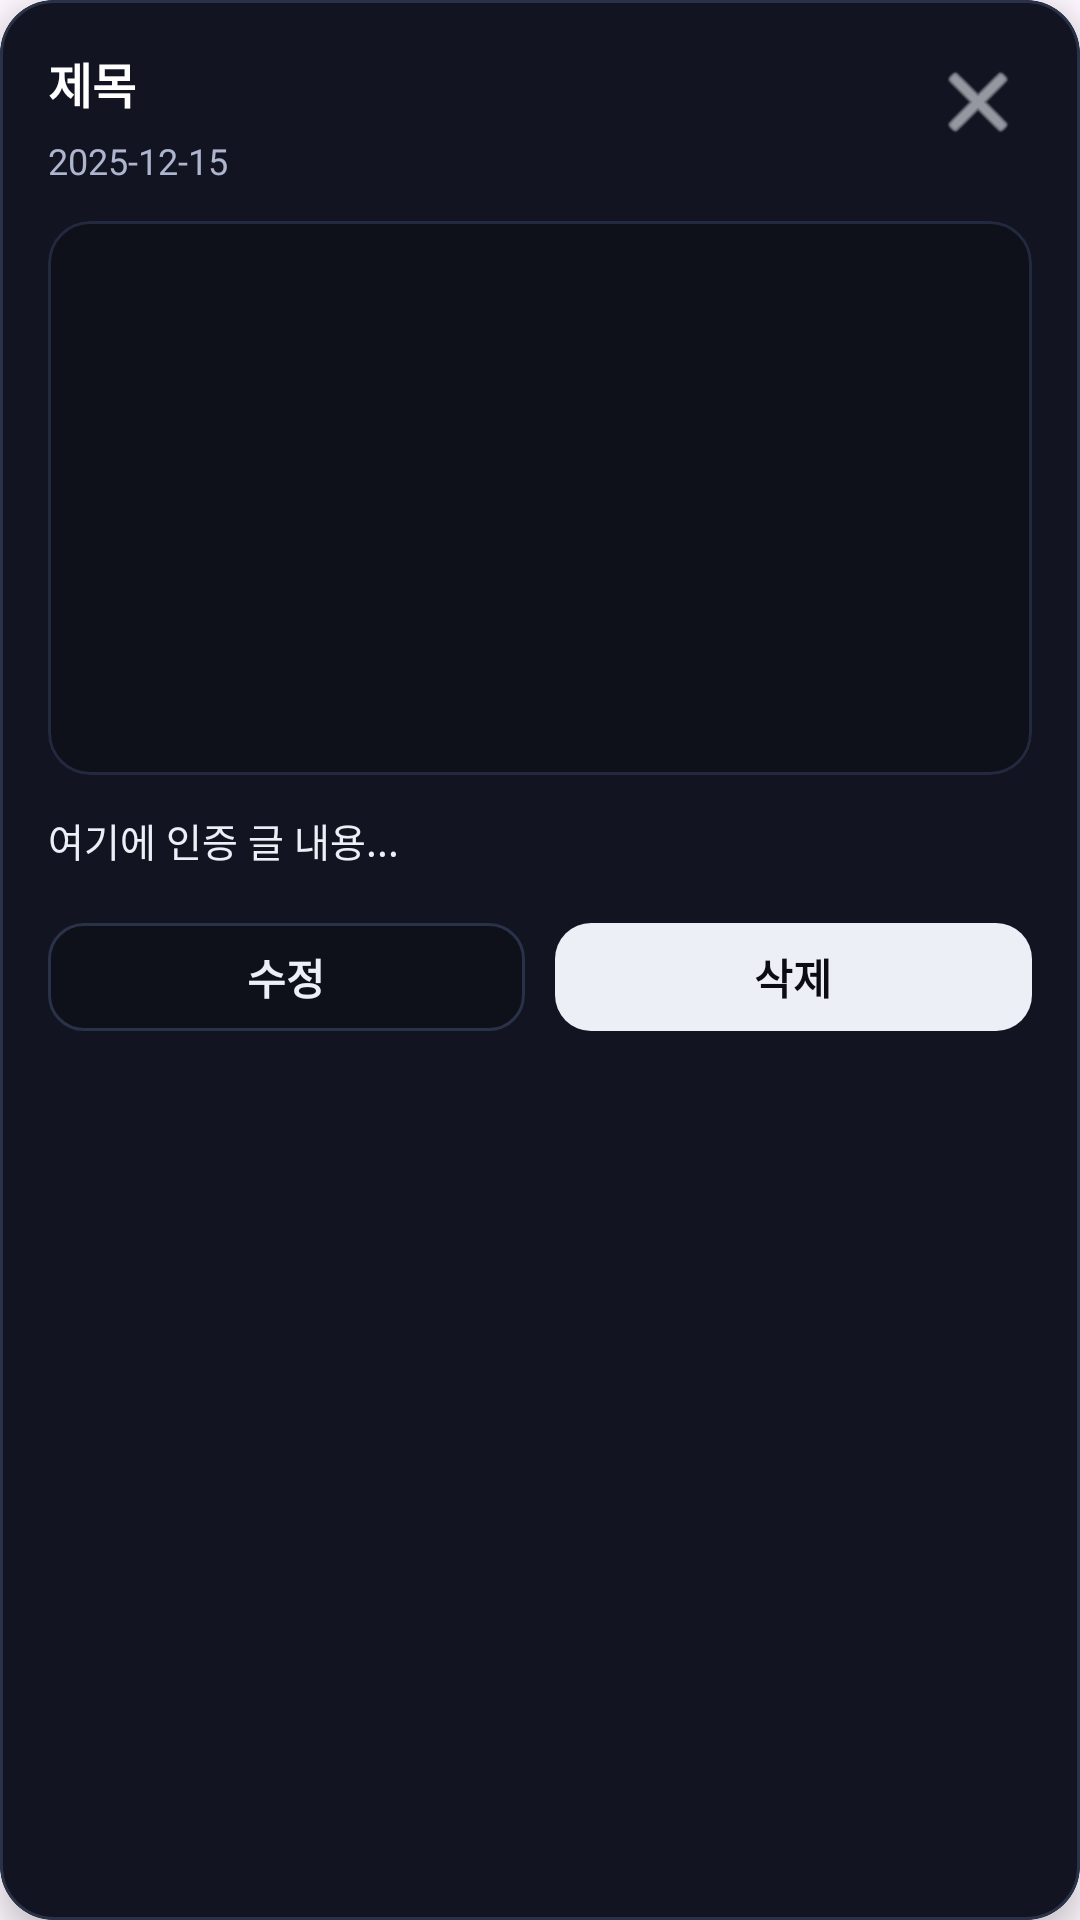

Point at icon controls on the screen. Image size 1080 × 1920, points as point (x, y).
close clear cancel: point (978, 102)
